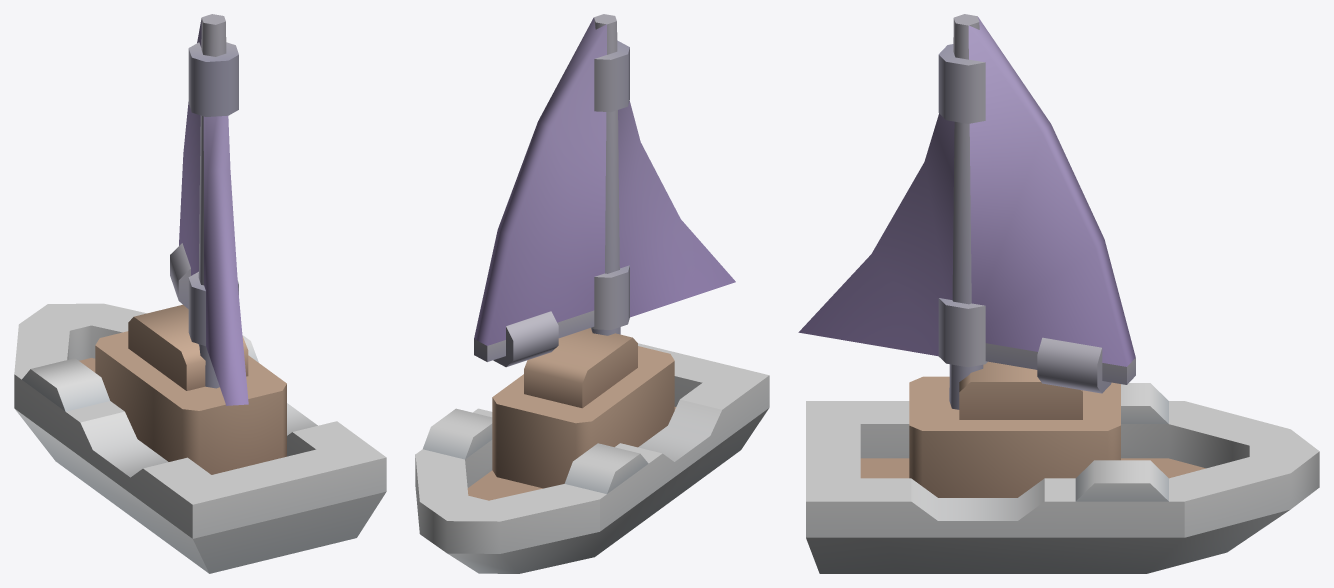
The model's file is toy-boat (%secret).glb.
The picture shows the model from 3 angles, left to right: view 1: azimuth 30°, elevation 25°; view 2: azimuth 150°, elevation 25°; view 3: azimuth 270°, elevation 25°; orthographic projection. The views are drawn at different scales.
Visible parts, largest first — view 1: toy-boat (%secret); view 2: toy-boat (%secret); view 3: toy-boat (%secret).
Boxes of the visible parts, bbox=[...] form: toy-boat (%secret): bbox=[14, 14, 386, 573]; toy-boat (%secret): bbox=[415, 14, 769, 573]; toy-boat (%secret): bbox=[798, 14, 1319, 573].
Bounding box in the file's own units: 0.1256 × 0.3007 × 0.2754.
